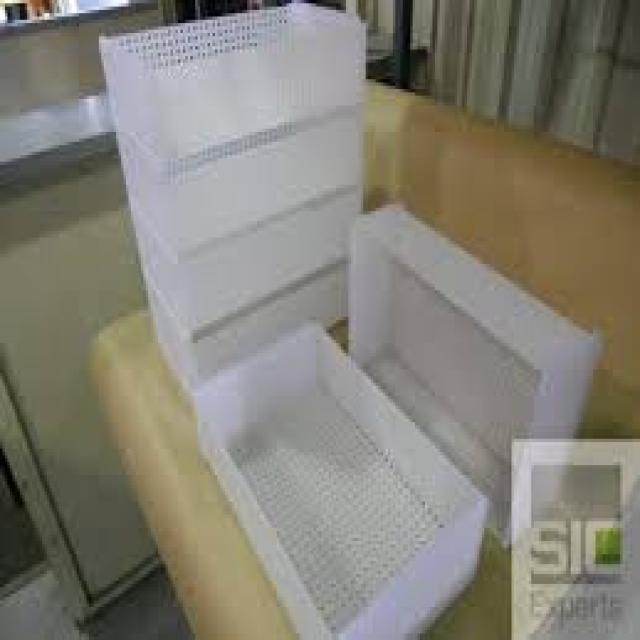basket: (261, 192, 628, 535)
